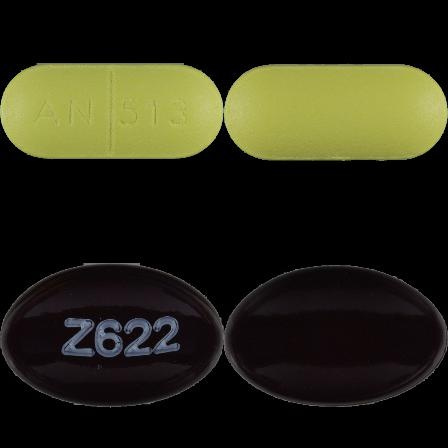68151-1924: (0, 0, 224, 224)
